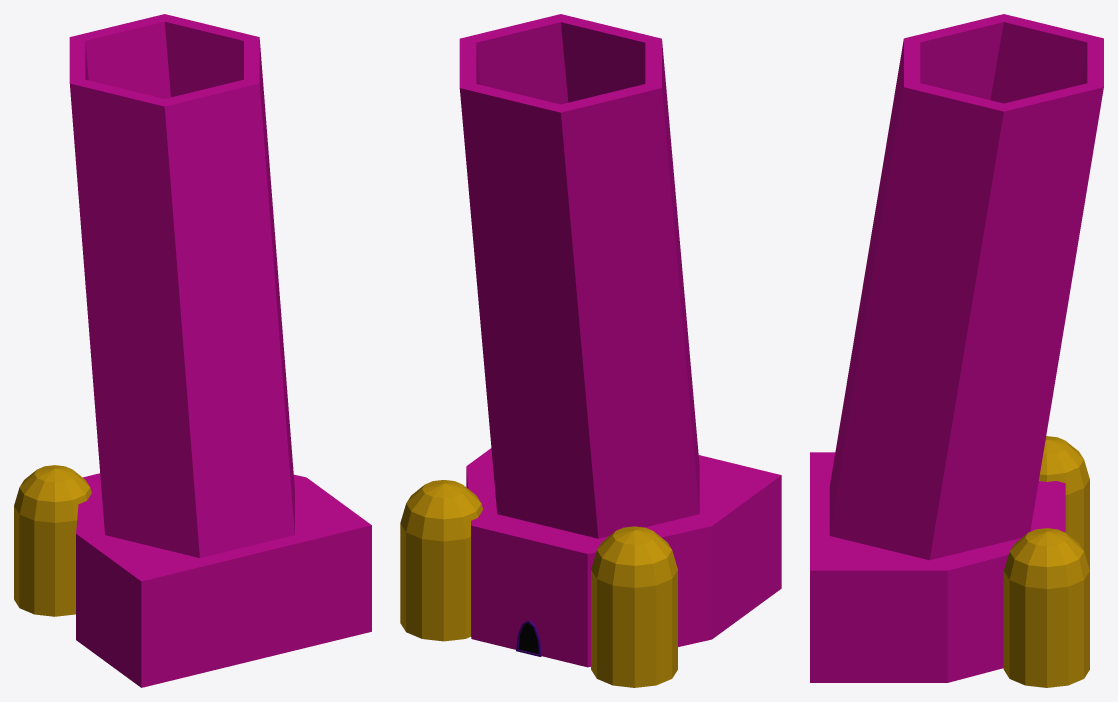
File: boiler-medium.fbx
3 views of the same model, side by side, from view 1: azimuth 30°, elevation 25°; view 2: azimuth 150°, elevation 25°; view 3: azimuth 270°, elevation 25° (orthographic). The views are drawn at different scales.
Visible parts, largest first — view 1: Empty_Mesh; view 2: Empty_Mesh; view 3: Empty_Mesh.
Part boxes in pixels (x1,y1,x2,y2): Empty_Mesh: (14, 14, 371, 687); Empty_Mesh: (400, 14, 781, 687); Empty_Mesh: (810, 14, 1103, 687).
Size of the model in its own units: 1842 by 3751 by 1781.
